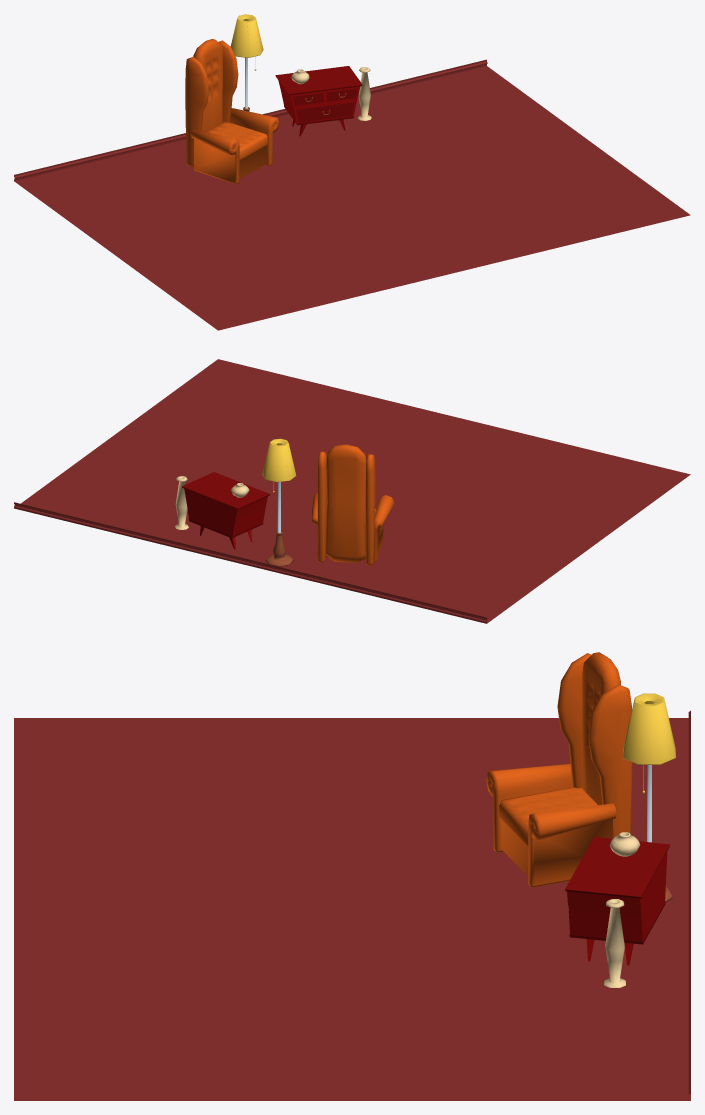
The model's file is Decor_room.fbx.
3 views of the same model, one above another, from view 1: azimuth 30°, elevation 25°; view 2: azimuth 150°, elevation 25°; view 3: azimuth 270°, elevation 25° (orthographic). The views are drawn at different scales.
Visible parts, largest first — view 1: floor, armchair, shelf, floor_lamp, vase; view 2: floor, armchair, shelf, floor_lamp, vase; view 3: floor, armchair, shelf, floor_lamp, vase.
Part boxes in pixels (bbox=[...]): floor: bbox=[14, 59, 690, 330]; armchair: bbox=[185, 39, 279, 184]; shelf: bbox=[275, 66, 362, 136]; floor_lamp: bbox=[230, 14, 263, 111]; vase: bbox=[357, 67, 371, 120]; floor: bbox=[14, 359, 690, 623]; armchair: bbox=[311, 444, 394, 565]; shelf: bbox=[182, 472, 270, 549]; floor_lamp: bbox=[262, 438, 296, 566]; vase: bbox=[175, 476, 188, 529]; floor: bbox=[14, 710, 690, 1100]; armchair: bbox=[486, 652, 632, 887]; shelf: bbox=[565, 832, 670, 965]; floor_lamp: bbox=[623, 693, 675, 902]; vase: bbox=[604, 899, 625, 987].
Bounding box in the file's own units: 22.44 × 5.38 × 16.78.
